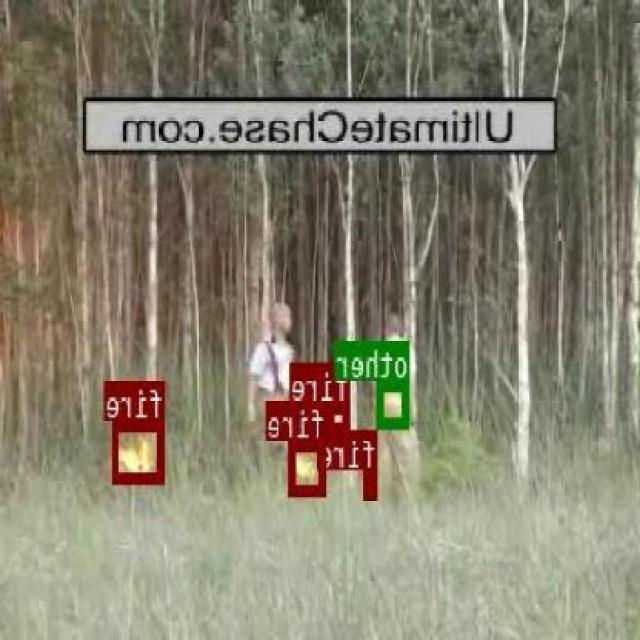Fire: (114, 420, 166, 480), (291, 439, 327, 493), (328, 400, 352, 431), (365, 468, 378, 496)
